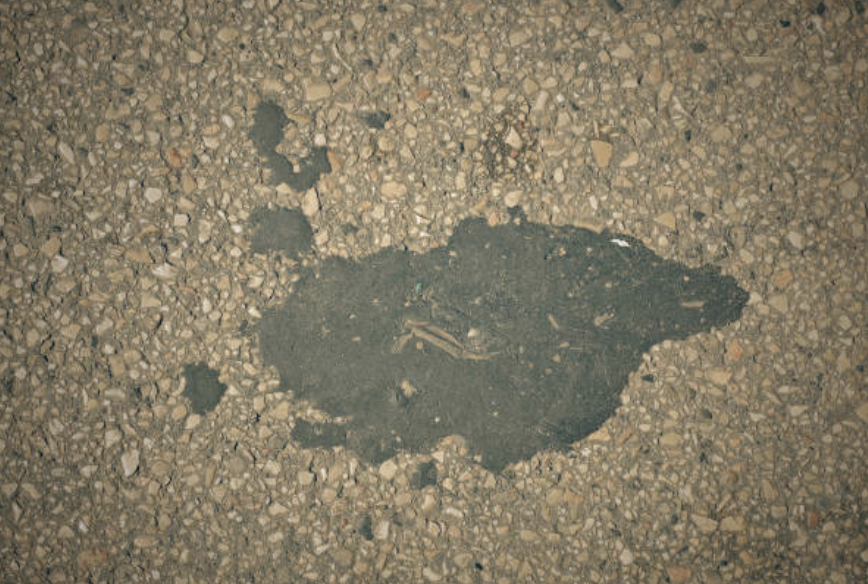oil: (120, 105, 376, 241), (122, 49, 168, 98), (89, 181, 115, 210)
